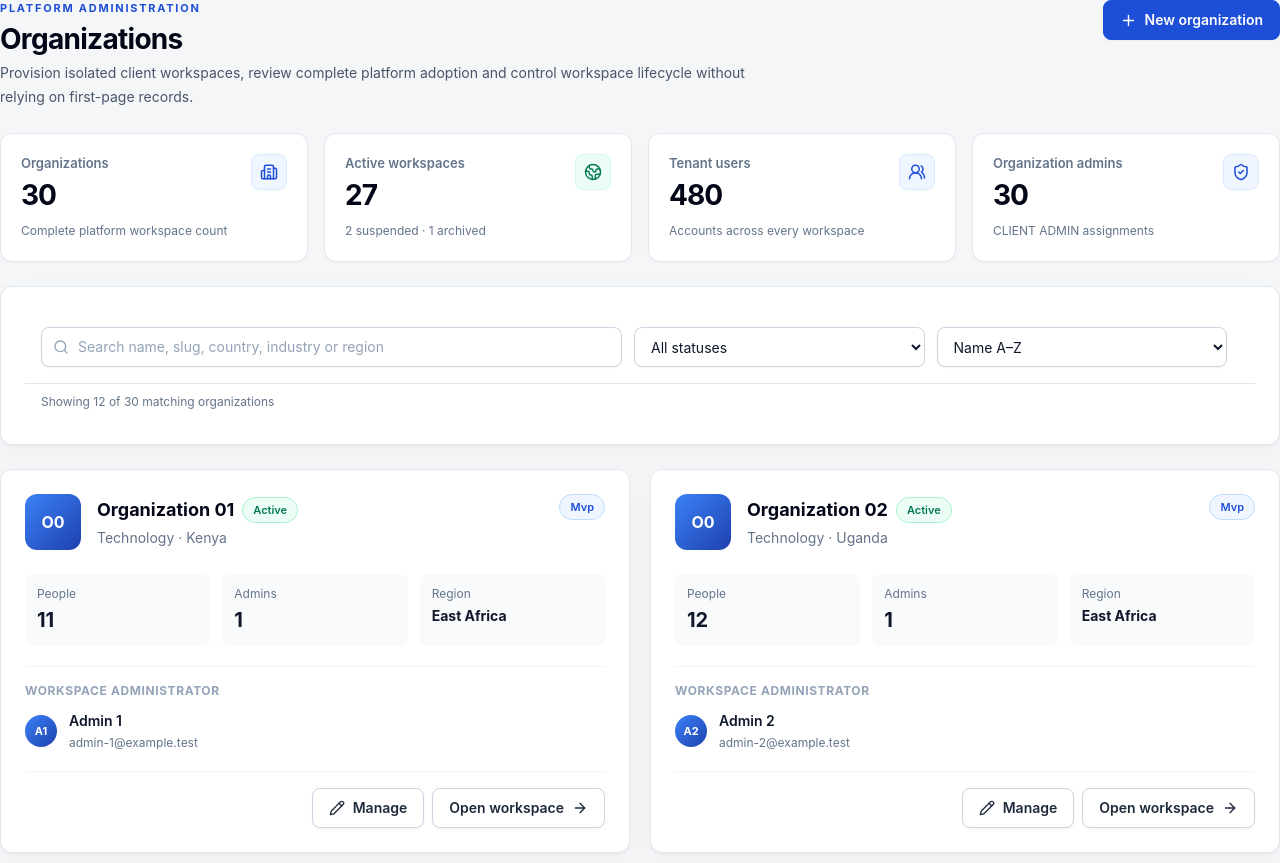
Scenario: updates organization lifecycle status from the management dialog
Expected: the text "Showing 12 of 30 matching organizations" is shown, [25, 383, 1255, 420]
Click the button with aria-label "Manage Organization 01".
click(368, 808)  # box [312, 788, 424, 828]
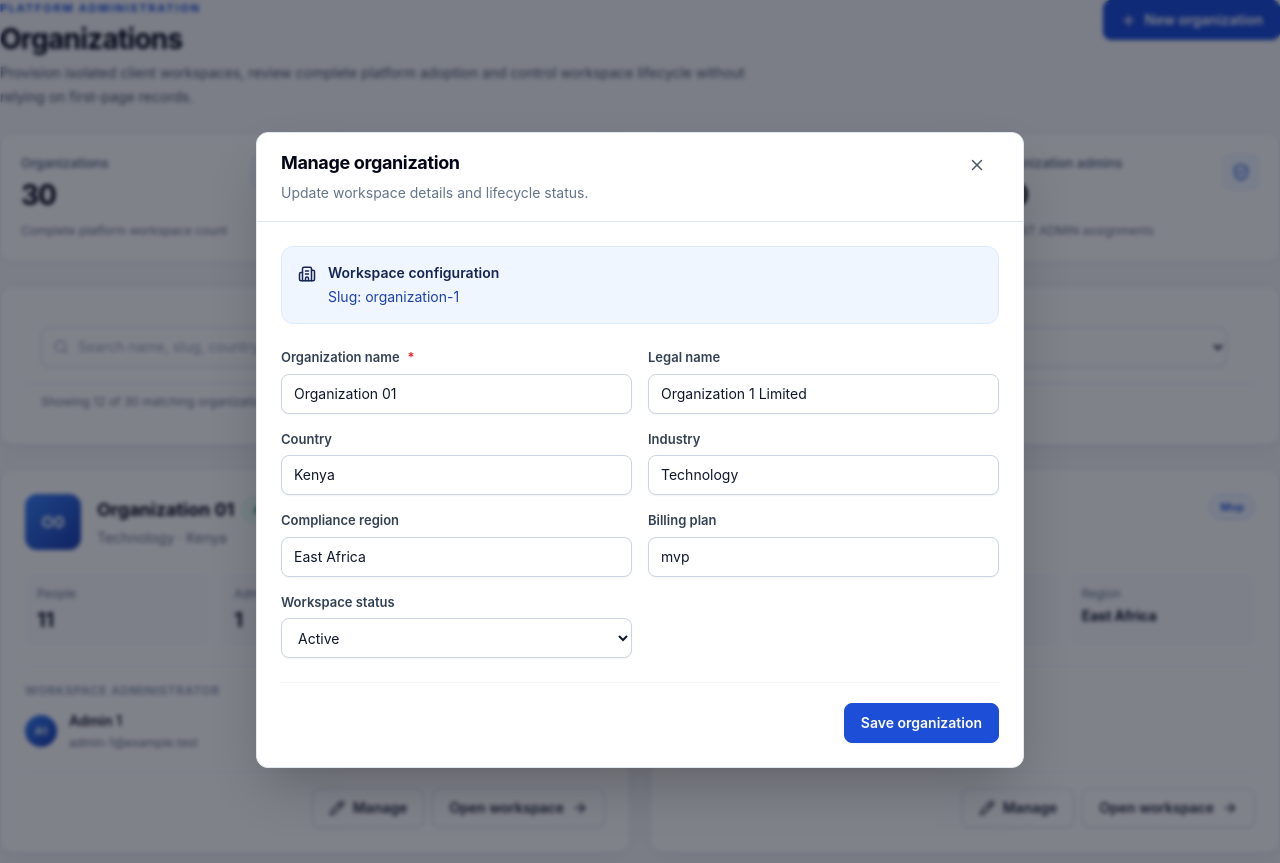
Select "Suspended" in the dropdown labelled "Workspace status" at coordinates (456, 638), box [281, 618, 632, 658]
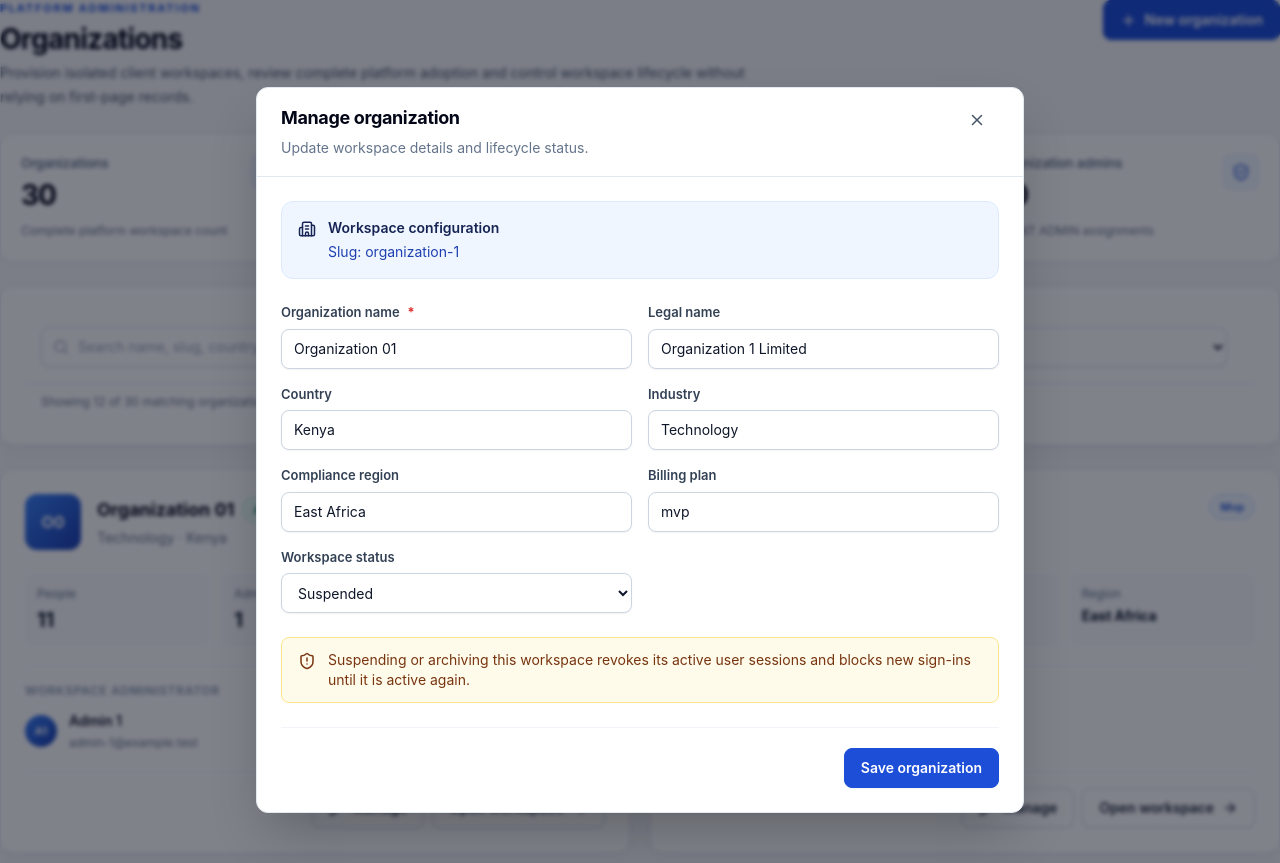
Now the text "revokes its active user sessions" is shown, box [328, 651, 971, 688]
Click the button "Save organization".
click(921, 768)  # box [844, 748, 999, 788]
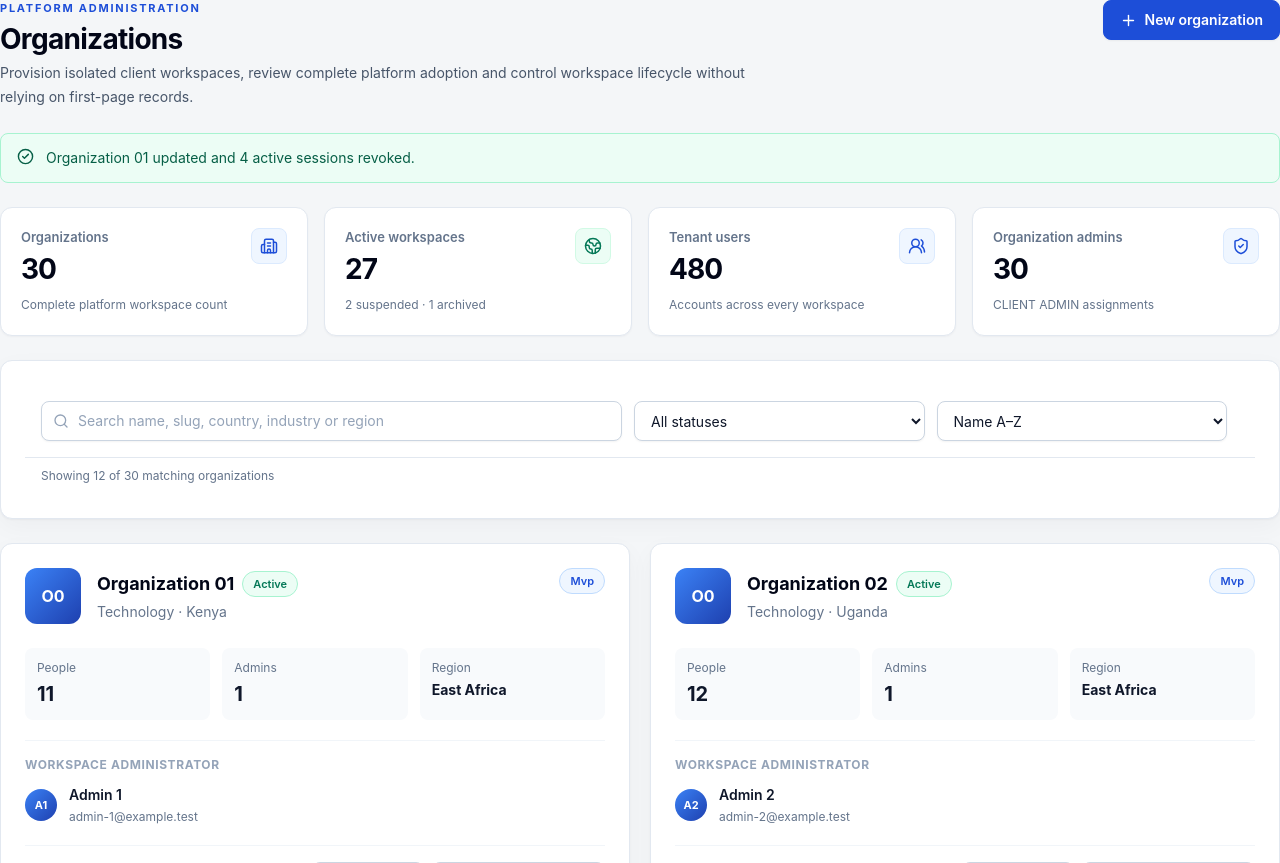
Now the text "Organization 01 updated and 4 active sessions revoked." is shown, box [46, 146, 415, 170]
